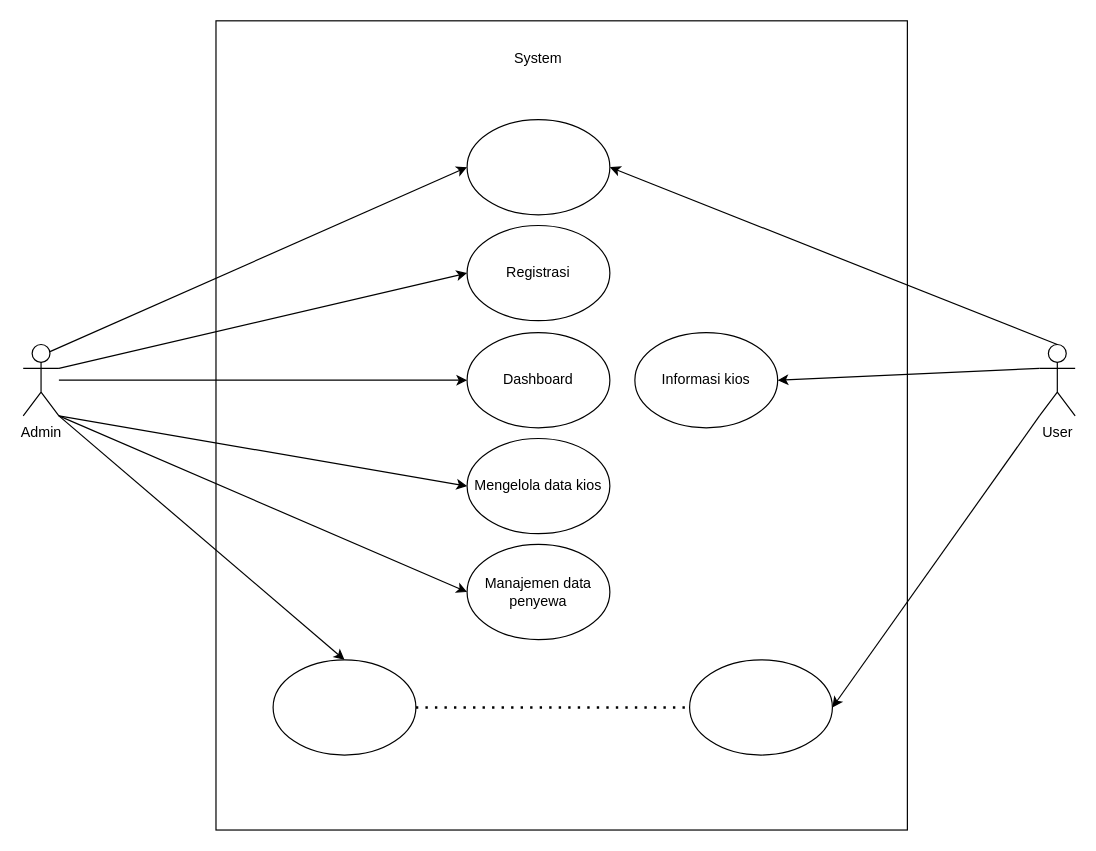
Image size: 1096x851. Some labels were removed from this diagram. Each missing label, with the centre of its shape:
"Login" belongs at point 538,166.
"Mengelola Pembayaran" belongs at point 344,707.
"Pembayaran/ membayar" belongs at point 760,707.
